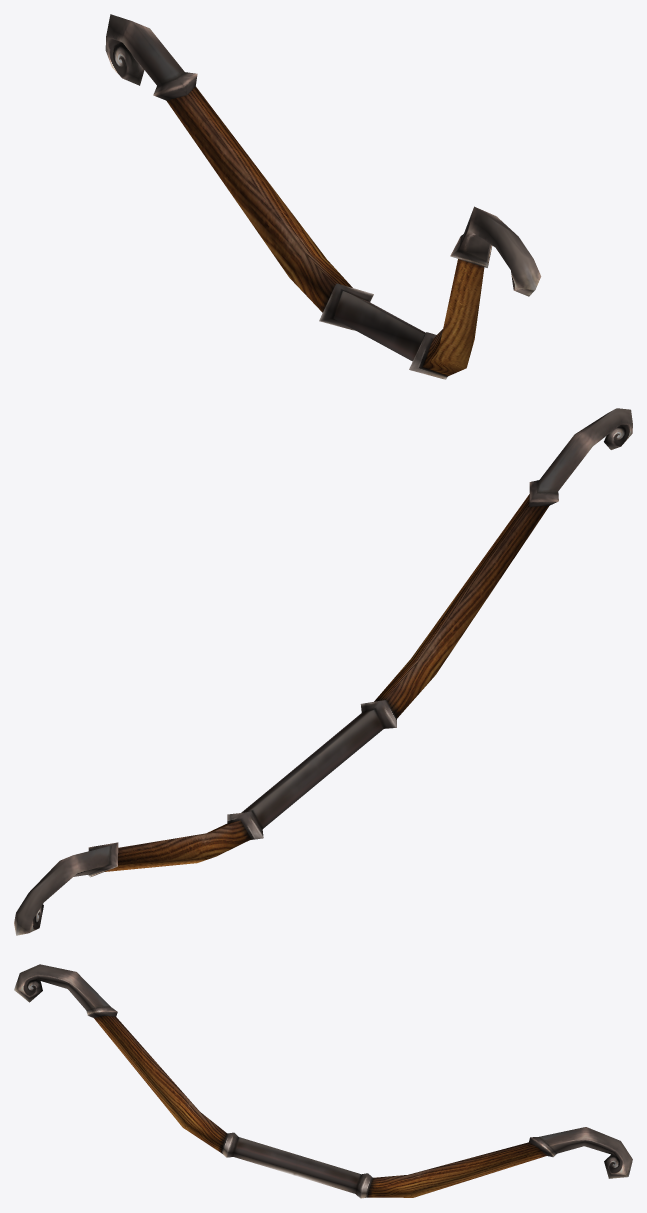
The model's file is Hunter-lefthandweapon00.FBX.
3 renders of one model, top to bottom at view 1: azimuth 30°, elevation 25°; view 2: azimuth 150°, elevation 25°; view 3: azimuth 270°, elevation 25°, orthographic. The views are drawn at different scales.
Visible parts, largest first — view 1: Hunter-lefthandweapon00; view 2: Hunter-lefthandweapon00; view 3: Hunter-lefthandweapon00.
Part boxes in pixels (<box>): Hunter-lefthandweapon00: <box>105,14,541,379</box>; Hunter-lefthandweapon00: <box>14,408,632,935</box>; Hunter-lefthandweapon00: <box>14,964,632,1198</box>.
Size of the model in its own units: 31.84 by 51.84 by 152.
